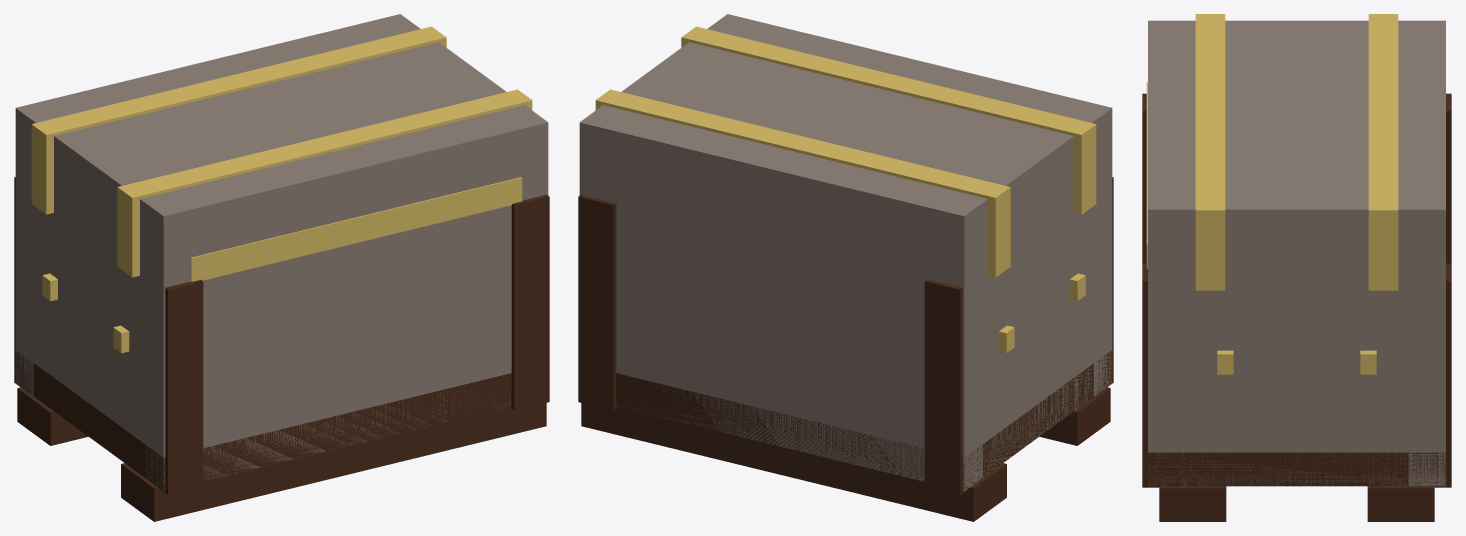
File: loot_chest_crate_closed.glb
The picture shows the model from 3 angles, left to right: view 1: azimuth 30°, elevation 25°; view 2: azimuth 150°, elevation 25°; view 3: azimuth 270°, elevation 25°; orthographic projection.
Parts seen in each view (by area): view 1: Crate_Lid, Crate_Body_Front, Crate_Body_Left, Crate_Body_Floor, Crate_Foot_1, Crate_Lid_Band_2, Crate_Lid_Band_1, Crate_Lid_Lip, Crate_Batten_1, Crate_Batten_2, Crate_Body_Back, Crate_Foot_2; view 2: Crate_Lid, Crate_Body_Back, Crate_Body_Left, Crate_Body_Floor, Crate_Foot_2, Crate_Lid_Band_1, Crate_Lid_Band_2, Crate_Batten_3, Crate_Batten_4, Crate_Body_Front, Crate_Foot_1; view 3: Crate_Lid, Crate_Body_Right, Crate_Body_Floor, Crate_Lid_Band_1, Crate_Lid_Band_2, Crate_Body_Back, Crate_Body_Front, Crate_Foot_1, Crate_Foot_2, Crate_Batten_4, Crate_Batten_2, Crate_Batten_3 (+4 smaller).
Part boxes in pixels (<box>): Crate_Lid: <box>15,14,548,289</box>; Crate_Body_Front: <box>145,205,511,490</box>; Crate_Body_Left: <box>34,206,144,443</box>; Crate_Body_Floor: <box>15,350,511,491</box>; Crate_Foot_1: <box>121,403,546,521</box>; Crate_Lid_Band_2: <box>31,26,446,214</box>; Crate_Lid_Band_1: <box>117,89,532,277</box>; Crate_Lid_Lip: <box>190,177,522,281</box>; Crate_Batten_1: <box>160,280,203,494</box>; Crate_Batten_2: <box>510,194,549,410</box>; Crate_Body_Back: <box>15,182,33,396</box>; Crate_Foot_2: <box>17,387,88,445</box>; Crate_Lid: <box>579,14,1112,289</box>; Crate_Body_Back: <box>616,205,982,491</box>; Crate_Body_Left: <box>983,206,1093,477</box>; Crate_Body_Floor: <box>616,350,1112,489</box>; Crate_Foot_2: <box>581,403,1006,521</box>; Crate_Lid_Band_1: <box>681,26,1096,214</box>; Crate_Lid_Band_2: <box>595,89,1010,277</box>; Crate_Batten_3: <box>924,279,967,494</box>; Crate_Batten_4: <box>578,194,617,410</box>; Crate_Body_Front: <box>1094,182,1112,396</box>; Crate_Foot_1: <box>1039,387,1110,445</box>; Crate_Lid: <box>1148,20,1445,283</box>; Crate_Body_Right: <box>1185,284,1408,486</box>; Crate_Body_Floor: <box>1148,452,1445,486</box>; Crate_Lid_Band_1: <box>1195,14,1225,290</box>; Crate_Lid_Band_2: <box>1368,14,1398,290</box>; Crate_Body_Back: <box>1408,284,1445,486</box>; Crate_Body_Front: <box>1148,284,1185,486</box>; Crate_Foot_1: <box>1159,486,1226,521</box>; Crate_Foot_2: <box>1367,486,1434,521</box>; Crate_Batten_4: <box>1434,263,1451,487</box>; Crate_Batten_2: <box>1142,263,1159,487</box>; Crate_Batten_3: <box>1446,93,1451,263</box>.
Bounding box in the file's own units: 0.624 × 0.4644 × 0.415.
